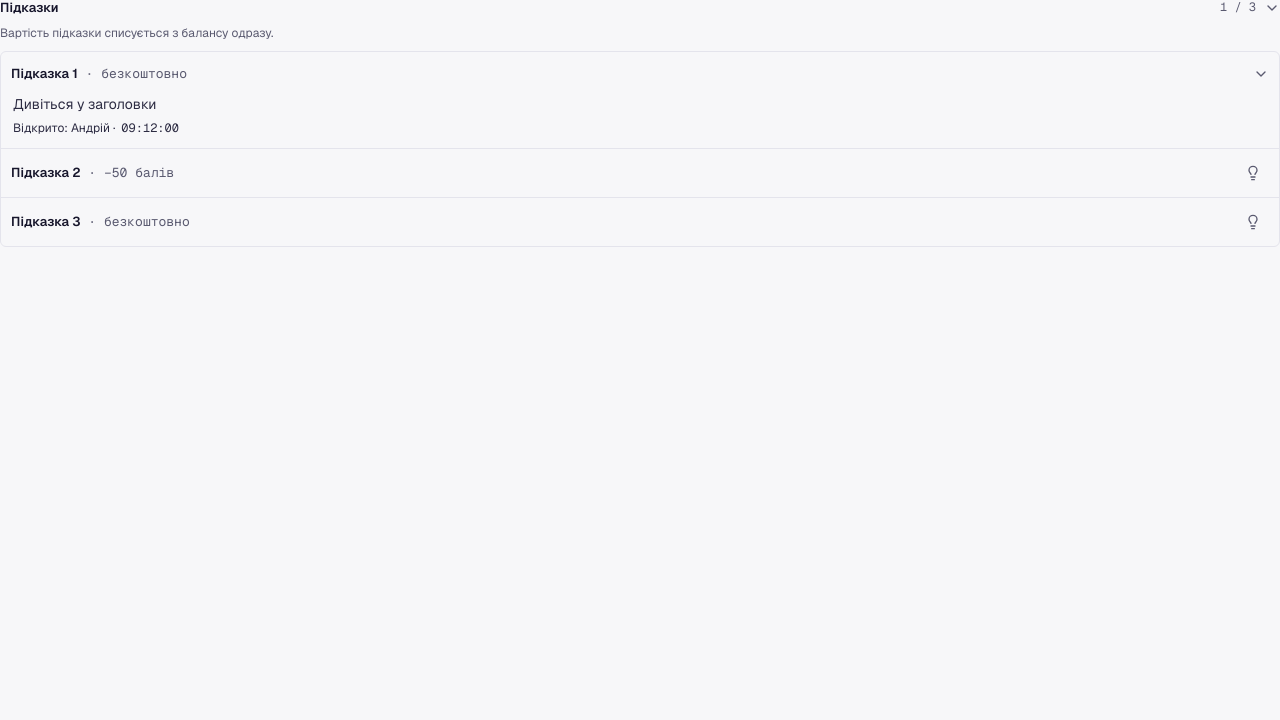
hint confirmation uses actual participation mode (team=false)
Click the button named "Відкрити підказку".
click(1253, 173)  # box [1237,157,1269,189]
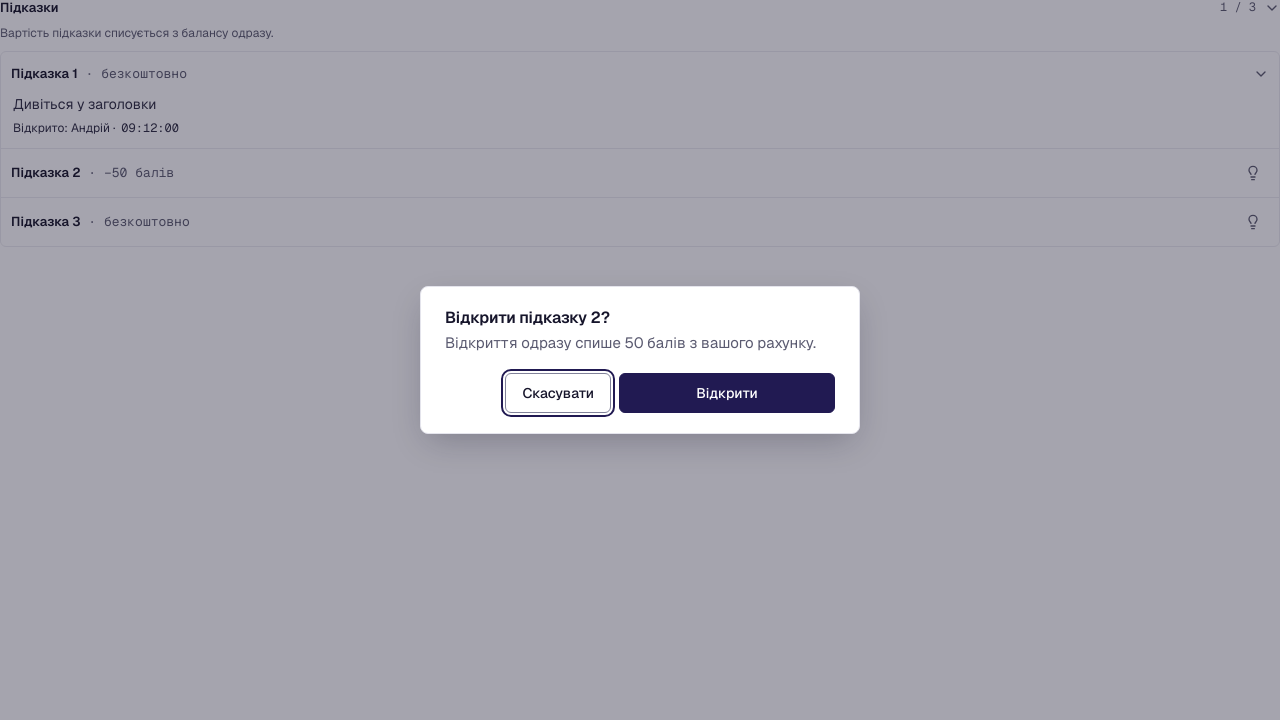
Expected: the text "Відкриття одразу спише 50 балів з вашого рахунку." is shown, [445,333,835,353]
